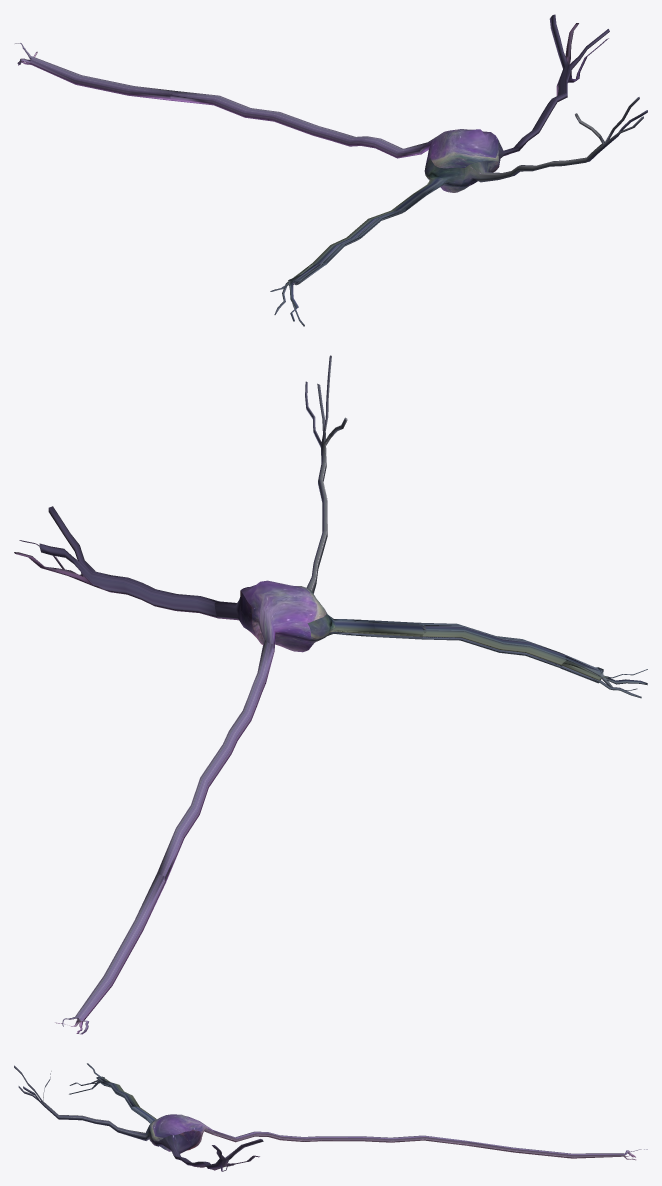
The model's file is neuron7.fbx.
3 views of the same model, one above another, from view 1: azimuth 30°, elevation 25°; view 2: azimuth 150°, elevation 25°; view 3: azimuth 270°, elevation 25° (orthographic). The views are drawn at different scales.
Visible parts, largest first — view 1: DONE3.001; view 2: DONE3.001; view 3: DONE3.001.
Part boxes in pixels (left/top/right/bottom): DONE3.001: left=15, top=14, right=647, bottom=326; DONE3.001: left=14, top=355, right=647, bottom=1034; DONE3.001: left=14, top=1063, right=647, bottom=1171.
Size of the model in its own units: 9584 by 4682 by 16181.
